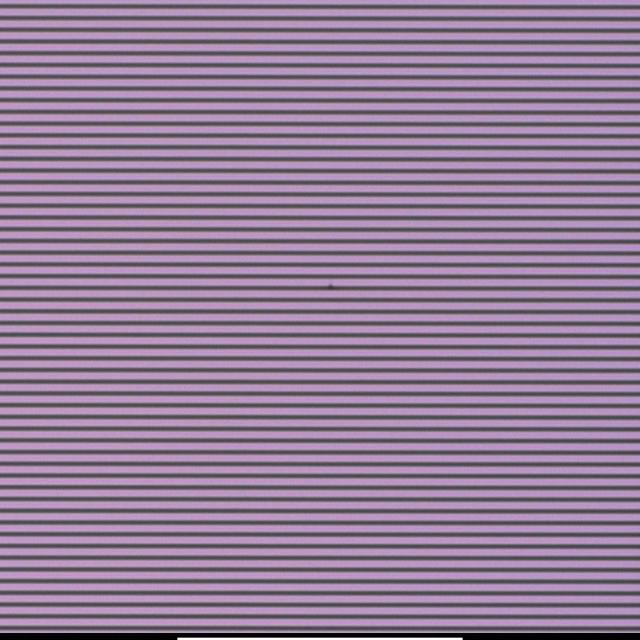03_intrusion: (322, 279, 336, 295)
